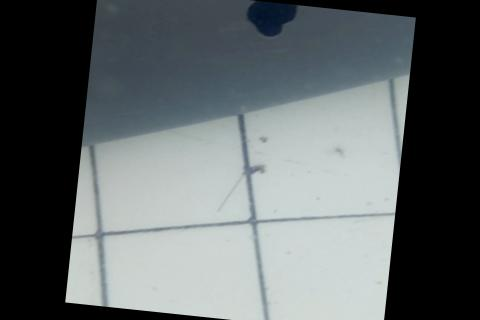kebocoran: (240, 0, 298, 41)
